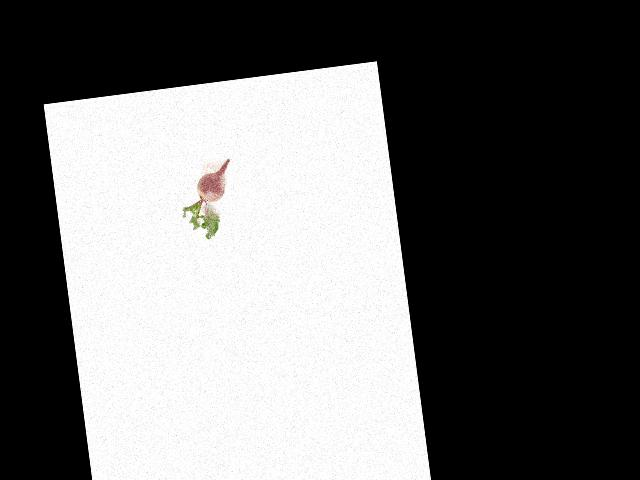beet: (176, 159, 239, 242)
